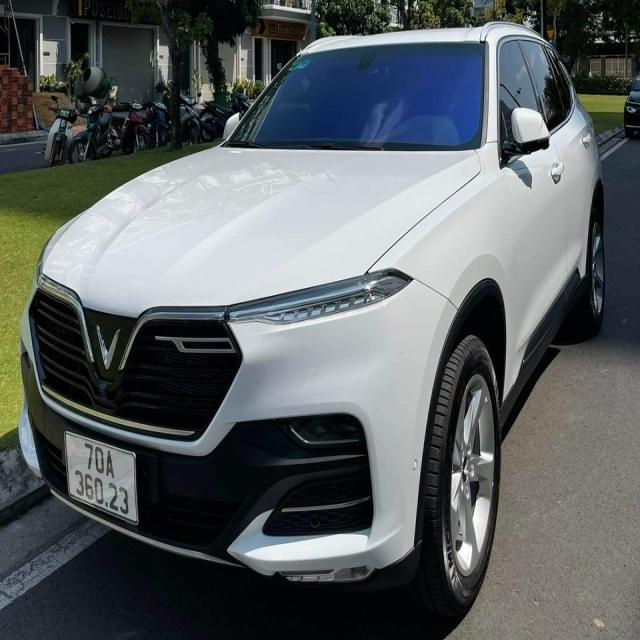car: (2, 23, 606, 610), (623, 65, 640, 143)
plate: (61, 432, 143, 526)
